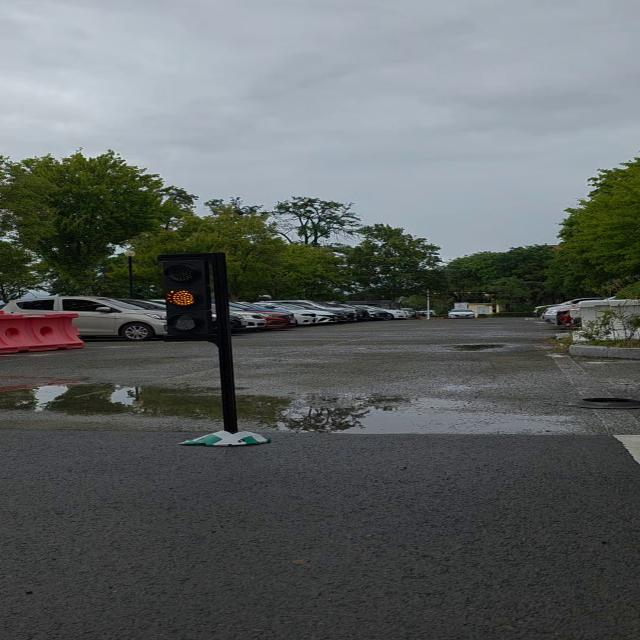yellow: (157, 256, 228, 342)
